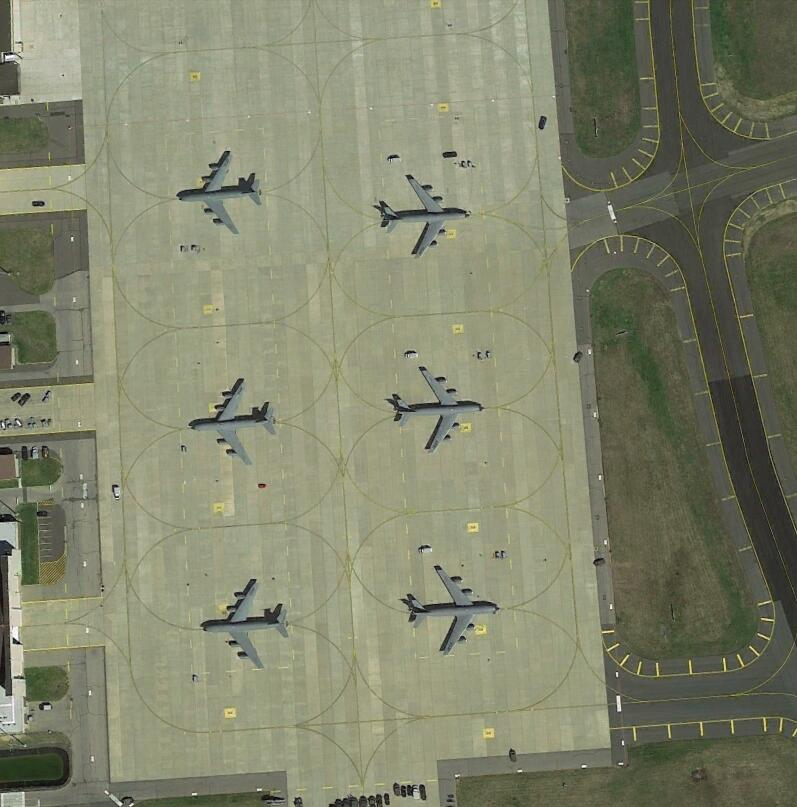A14: (198, 571, 296, 672), (403, 563, 503, 658), (391, 369, 488, 453), (378, 175, 472, 259), (191, 378, 278, 468), (177, 154, 270, 238)
